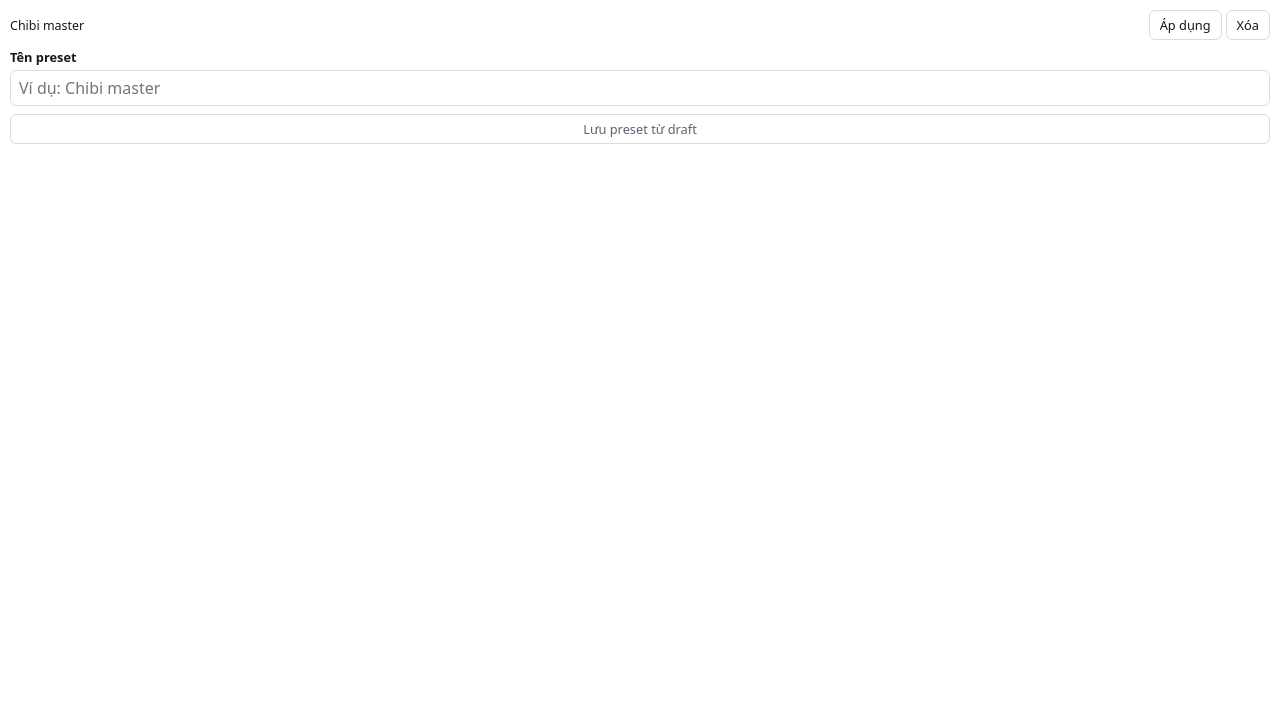
Test: applying a preset (spec section 4.4, plan decision Q5) › shows the empty marker for a field the draft has not filled in
The image size is (1280, 720).
Click the button "Áp dụng". click: (1185, 25)
box: [1149,10,1222,40]
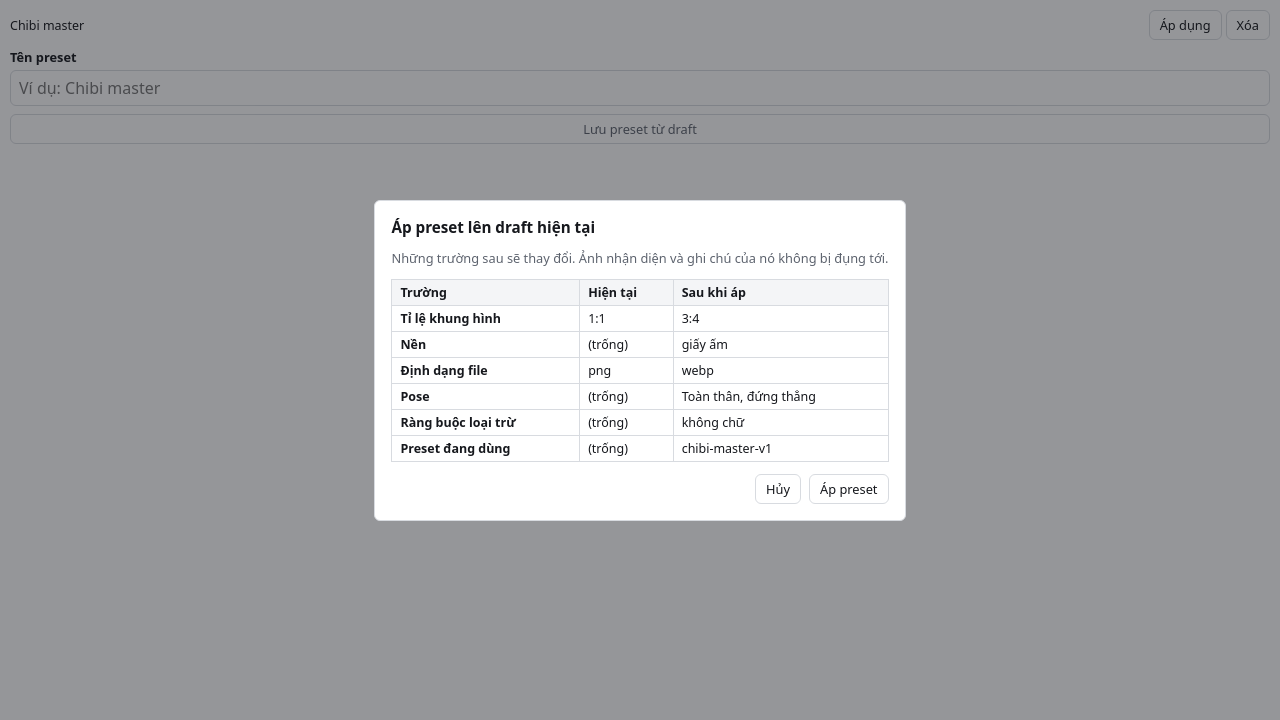
Expected: the text "(trống)" next to "Nền" is shown, [588,336,628,352]
